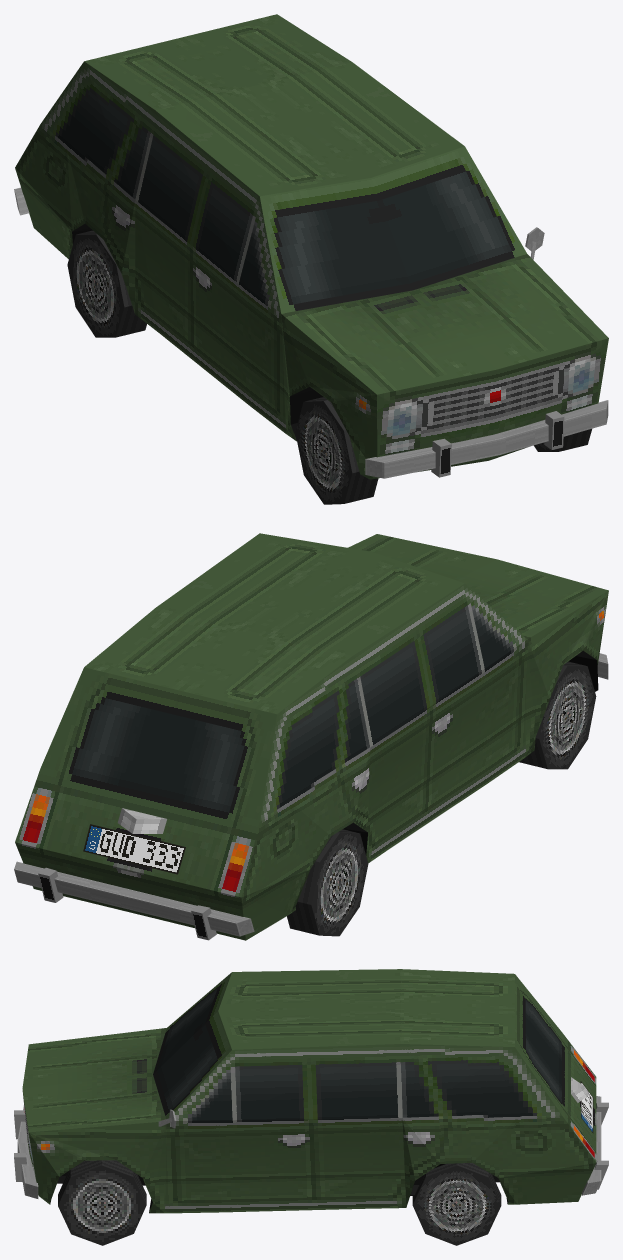
File: Car1fixed.glb
The picture shows the model from 3 angles, top to bottom: view 1: azimuth 30°, elevation 25°; view 2: azimuth 150°, elevation 25°; view 3: azimuth 270°, elevation 25°; orthographic projection. The views are drawn at different scales.
Visible parts, largest first — view 1: Car, car roof, windows, front_wheels, back_wheels, front window, lights; view 2: car roof, Car, windows, back_wheels, front window, front_wheels, plate, lights; view 3: Car, car roof, windows, front_wheels, back_wheels, plate.
Boxes of the visible parts, x1,y1,x2,y2 form: Car: (14,124,608,479); car roof: (40,14,526,313); windows: (61,88,511,304); front_wheels: (295,397,591,504); back_wheels: (67,230,146,337); front window: (193,158,257,279); lights: (387,358,595,435); car roof: (15,533,526,897); Car: (14,534,608,940); windows: (74,606,510,810); back_wheels: (287,829,368,936); front window: (415,585,482,703); front_wheels: (519,661,596,769); plate: (83,824,185,874); lights: (24,795,248,891); Car: (14,1028,608,1213); car roof: (153,969,596,1162); windows: (157,989,560,1120); front_wheels: (58,1160,146,1245); back_wheels: (412,1163,501,1245); plate: (580,1081,593,1133).
Bounding box in the file's own units: 2.56 × 2.2 × 6.15.
Materials: 2 (2 with a texture image).
